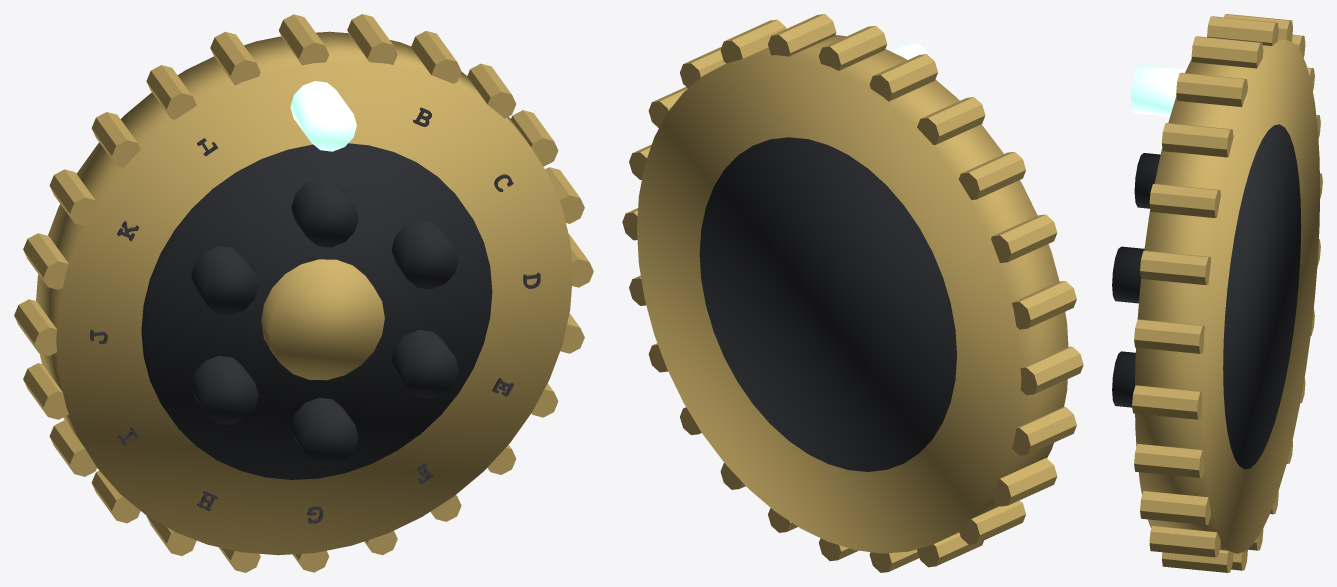
Rendered from wheel.glb.
The picture shows the model from 3 angles, left to right: view 1: azimuth 30°, elevation 25°; view 2: azimuth 150°, elevation 25°; view 3: azimuth 270°, elevation 25°; orthographic projection. The views are drawn at different scales.
Parts seen in each view (by area): view 1: mta_wheel_ring, mta_wheel_face, mta_wheel_hub, mta_wheel_hole_0, mta_wheel_hole_5, mta_wheel_hole_3, mta_wheel_hole_1, mta_wheel_hole_2, mta_wheel_hole_4, mta_wheel_pip, mta_wheel_knurl_22, mta_wheel_knurl_23 (+15 smaller); view 2: mta_wheel_ring, mta_wheel_face, mta_wheel_knurl_20, mta_wheel_knurl_22, mta_wheel_knurl_19, mta_wheel_knurl_21, mta_wheel_knurl_23, mta_wheel_knurl_18, mta_wheel_knurl_17, mta_wheel_knurl_0, mta_wheel_knurl_16, mta_wheel_knurl_1 (+6 smaller); view 3: mta_wheel_ring, mta_wheel_face, mta_wheel_pip, mta_wheel_knurl_3, mta_wheel_knurl_2, mta_wheel_knurl_5, mta_wheel_knurl_4, mta_wheel_knurl_1, mta_wheel_knurl_6, mta_wheel_knurl_7, mta_wheel_knurl_8, mta_wheel_knurl_0 (+7 smaller).
Part boxes in pixels (box(x1,y1,x2,y2)): mta_wheel_ring: box(36, 31, 572, 555); mta_wheel_face: box(141, 143, 492, 479); mta_wheel_hub: box(261, 259, 384, 380); mta_wheel_hole_0: box(291, 178, 358, 247); mta_wheel_hole_5: box(191, 246, 258, 315); mta_wheel_hole_3: box(291, 397, 358, 466); mta_wheel_hole_1: box(391, 220, 458, 289); mta_wheel_hole_2: box(391, 330, 458, 398); mta_wheel_hole_4: box(191, 356, 258, 424); mta_wheel_pip: box(290, 81, 356, 151); mta_wheel_knurl_22: box(146, 65, 196, 119); mta_wheel_knurl_23: box(210, 31, 260, 85); mta_wheel_ring: box(637, 35, 1068, 553); mta_wheel_face: box(699, 137, 956, 471); mta_wheel_knurl_20: box(991, 214, 1057, 262); mta_wheel_knurl_22: box(917, 97, 985, 144); mta_wheel_knurl_19: box(1012, 281, 1076, 329); mta_wheel_knurl_21: box(958, 151, 1025, 199); mta_wheel_knurl_23: box(869, 54, 937, 101); mta_wheel_knurl_18: box(1020, 346, 1083, 395); mta_wheel_knurl_17: box(1012, 407, 1076, 455); mta_wheel_knurl_0: box(818, 25, 886, 70); mta_wheel_knurl_16: box(991, 458, 1057, 506); mta_wheel_knurl_1: box(768, 14, 836, 56); mta_wheel_ring: box(1135, 39, 1320, 553); mta_wheel_face: box(1223, 124, 1301, 469); mta_wheel_pip: box(1131, 65, 1186, 116); mta_wheel_knurl_3: box(1149, 183, 1220, 218); mta_wheel_knurl_2: box(1161, 123, 1233, 157); mta_wheel_knurl_5: box(1134, 319, 1204, 353); mta_wheel_knurl_4: box(1140, 250, 1210, 284); mta_wheel_knurl_1: box(1176, 72, 1247, 106); mta_wheel_knurl_6: box(1132, 385, 1201, 419); mta_wheel_knurl_7: box(1134, 444, 1204, 477); mta_wheel_knurl_8: box(1140, 491, 1210, 524); mta_wheel_knurl_0: box(1191, 36, 1263, 68).
Bounding box in the file's own units: 0.126 × 0.1258 × 0.0474.
